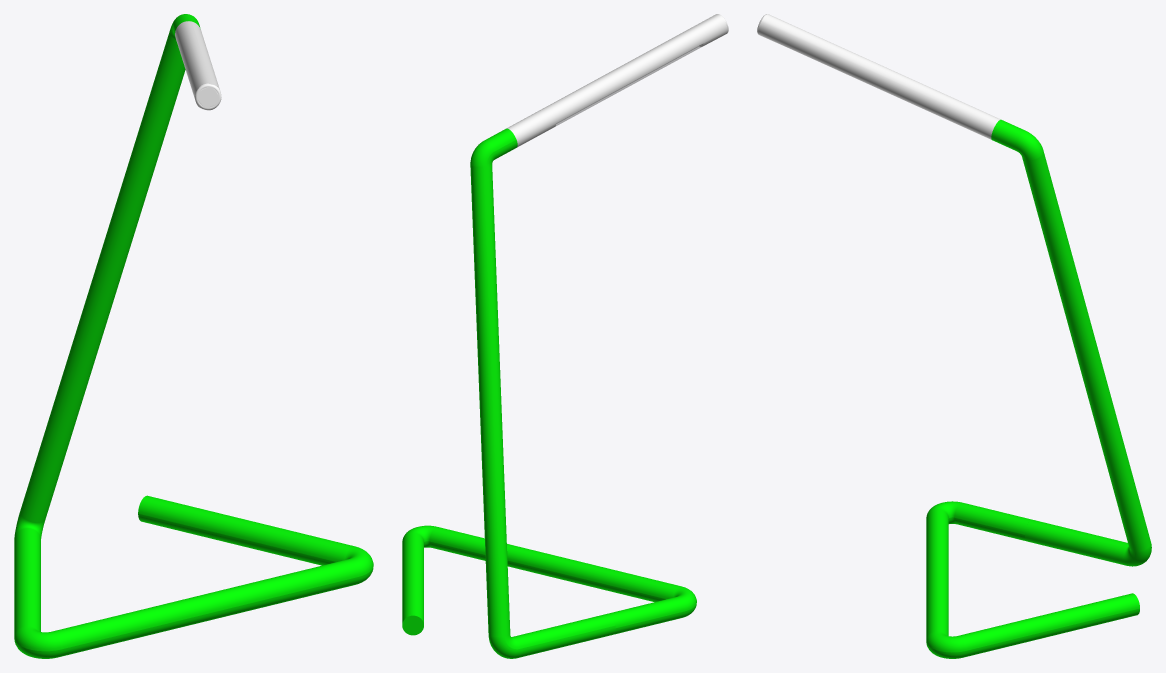
Rendered from HARTE_LED_Work_Light.obj.
3 renders of one model, left to right at view 1: azimuth 30°, elevation 25°; view 2: azimuth 150°, elevation 25°; view 3: azimuth 270°, elevation 25°, orthographic. The views are drawn at different scales.
Visible parts, largest first — view 1: Revit_000254_33, Revit_000254_34, Revit_000252_36; view 2: Revit_000254_34, Revit_000254_33, Revit_000252_36, Revit_000255_35; view 3: Revit_000254_34, Revit_000254_33, Revit_000252_36.
Boxes of the visible parts, x1,y1,x2,y2 form: Revit_000254_33: (14, 495, 373, 658); Revit_000254_34: (14, 14, 200, 595); Revit_000252_36: (175, 21, 221, 110); Revit_000254_34: (470, 128, 615, 658); Revit_000254_33: (402, 525, 696, 635); Revit_000252_36: (506, 14, 728, 147); Revit_000255_35: (555, 44, 703, 126); Revit_000254_34: (991, 119, 1151, 566); Revit_000254_33: (926, 501, 1139, 658); Revit_000252_36: (757, 14, 1000, 139).
Bounding box in the file's own units: 182 × 315 × 210.
